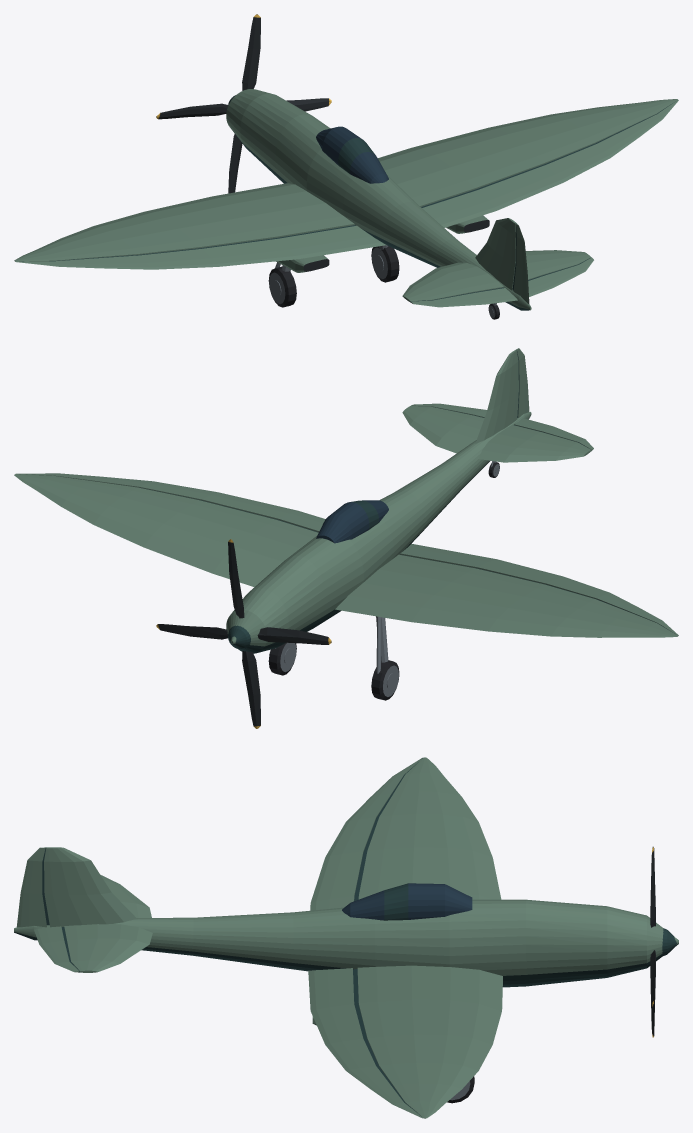
File: mkvii.glb
3 views of the same model, one above another, from view 1: azimuth 30°, elevation 25°; view 2: azimuth 150°, elevation 25°; view 3: azimuth 270°, elevation 25° (orthographic). The views are drawn at different scales.
Parts seen in each view (by area): view 1: wing, airframe, wing_control, tailplane, propeller, canopy, gear, tailplane_control, fin, radiator, wing_hinge, fin_control; view 2: wing, airframe, wing_control, tailplane, propeller, gear, fin, canopy, tailplane_control, fin_control; view 3: airframe, wing, wing_control, fin, tailplane, canopy, fin_control, propeller, wing_hinge, tailplane_control.
Boxes of the visible parts, x1,y1,x2,y2 form: wing: (14, 99, 677, 261); airframe: (226, 89, 531, 310); wing_control: (16, 100, 678, 269); tailplane: (402, 250, 591, 302); propeller: (156, 14, 331, 193); canopy: (316, 126, 388, 183); gear: (268, 245, 499, 319); tailplane_control: (411, 257, 593, 307); fin: (475, 218, 516, 290); radiator: (276, 215, 489, 272); wing_hinge: (22, 103, 672, 261); fin_control: (513, 224, 529, 304); wing: (14, 474, 677, 637); airframe: (226, 412, 531, 653); wing_control: (16, 473, 678, 635); tailplane: (402, 405, 591, 462); propeller: (156, 539, 331, 728); gear: (268, 461, 499, 700); fin: (475, 350, 518, 443); canopy: (316, 500, 388, 543); tailplane_control: (411, 403, 593, 450); fin_control: (516, 348, 529, 417); airframe: (14, 899, 678, 987); wing: (357, 757, 502, 1118); wing_control: (308, 757, 422, 1118); fin: (44, 847, 137, 927); tailplane: (64, 875, 152, 972); canopy: (342, 883, 472, 920); fin_control: (16, 847, 46, 927); propeller: (650, 846, 676, 1037); wing_hinge: (353, 758, 422, 1116); tailplane_control: (34, 926, 79, 972).
Bounding box in the file's own units: 12.24 × 3.69 × 9.54.
